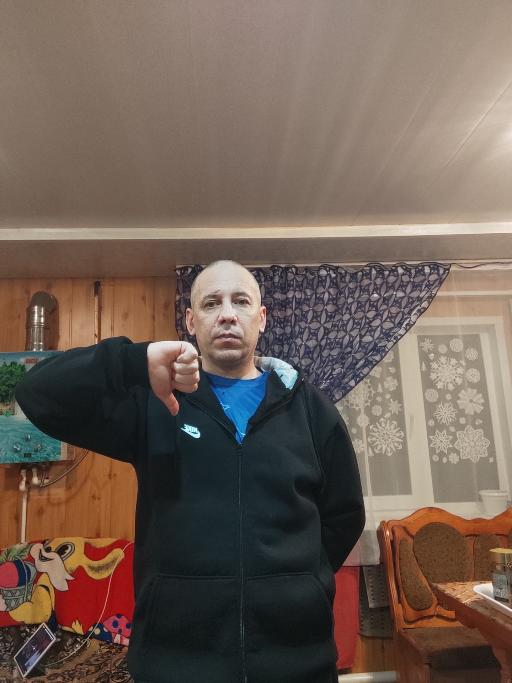dislike: (144, 337, 203, 418)
